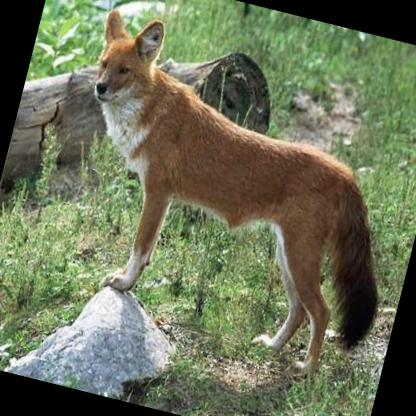dhole: (32, 4, 416, 388)
